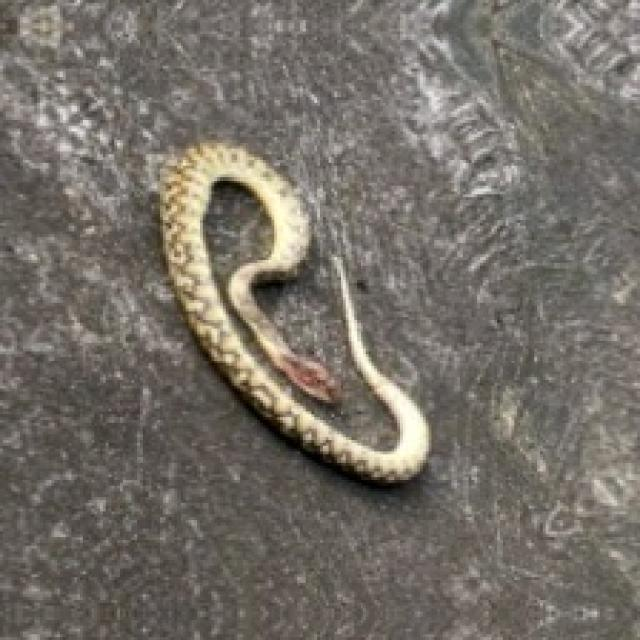reticulated python: (160, 140, 429, 483), (200, 177, 274, 306)
